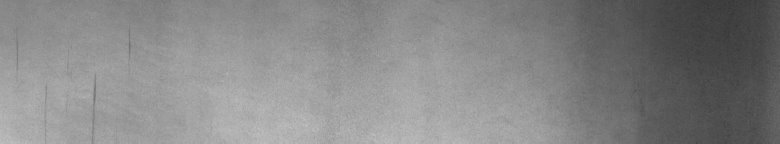ka: (84, 42, 131, 134)
